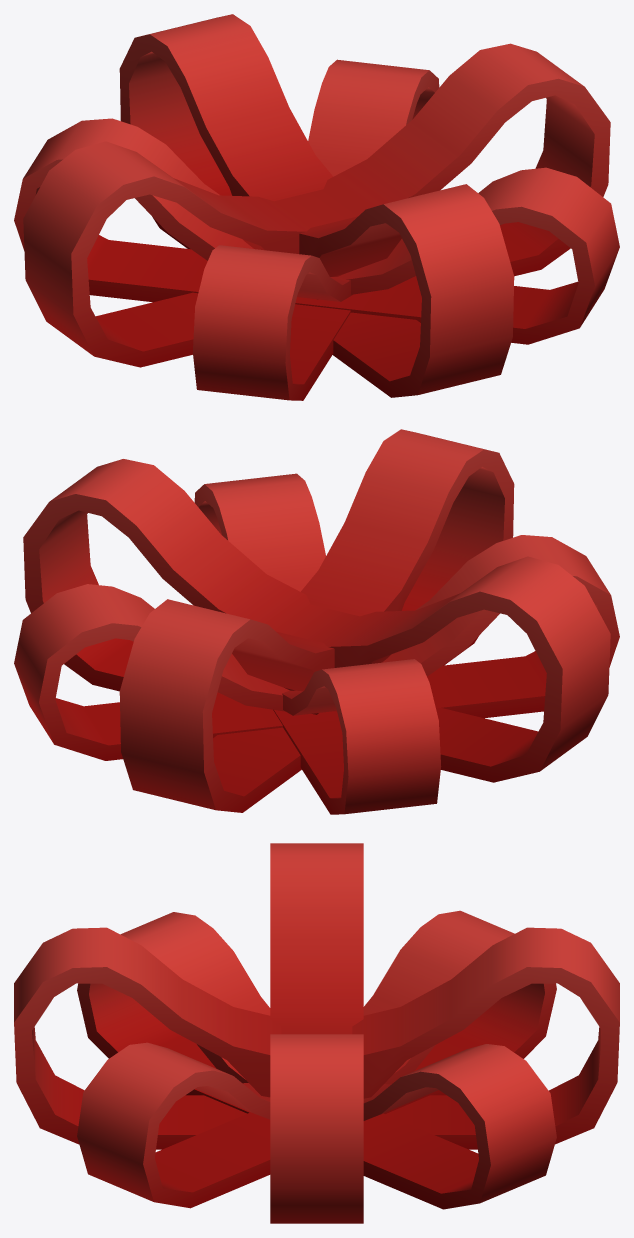
Rendered from bow_002.fbx.
3 views of the same model, one above another, from view 1: azimuth 30°, elevation 25°; view 2: azimuth 150°, elevation 25°; view 3: azimuth 270°, elevation 25° (orthographic). The views are drawn at different scales.
Visible parts, largest first — view 1: bow_002; view 2: bow_002; view 3: bow_002.
Part boxes in pixels (x1,y1,x2,y2): bow_002: (14,14,619,400); bow_002: (14,429,619,814); bow_002: (14,843,619,1223).
Size of the model in its own units: 195 by 195 by 65.41.
